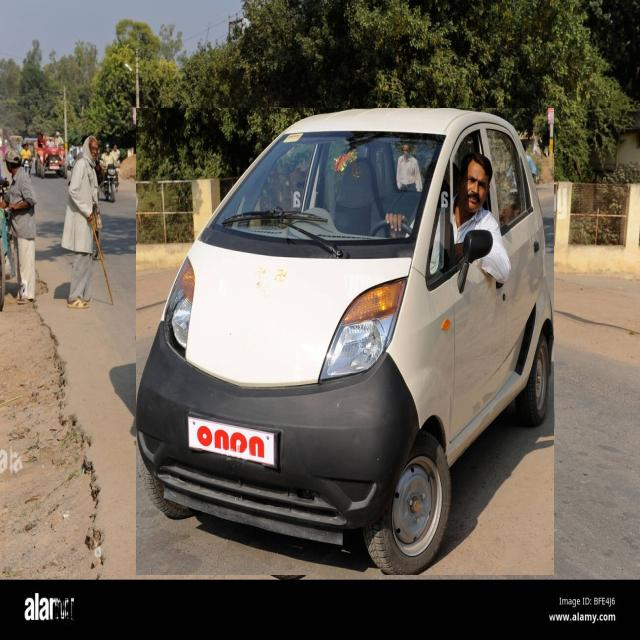car: (136, 109, 554, 575)
motorcycle: (100, 143, 122, 202)
truck: (35, 131, 68, 179)
